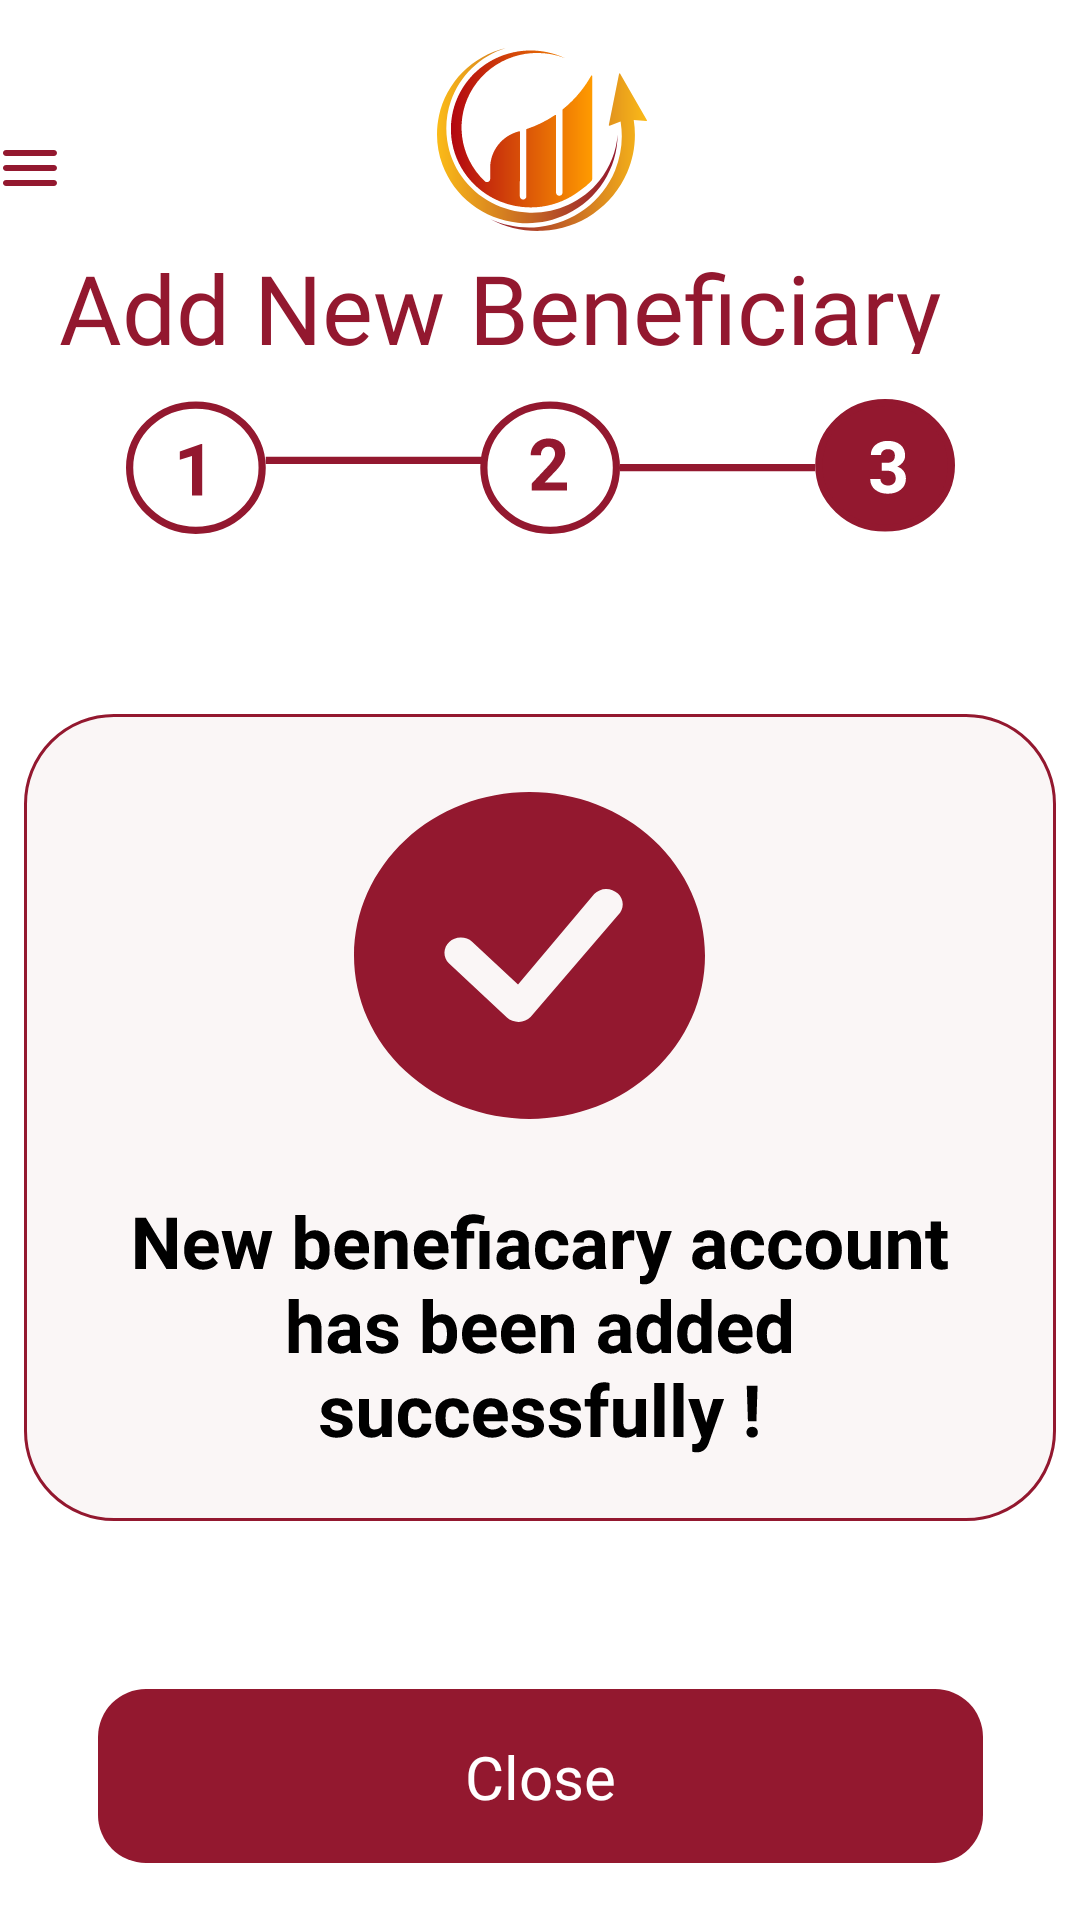

Icons on this 1080 × 1920 Android screen, each with its box as bbox=[x1, y1, x2, y2]:
menu: bbox=[3, 150, 57, 186]
